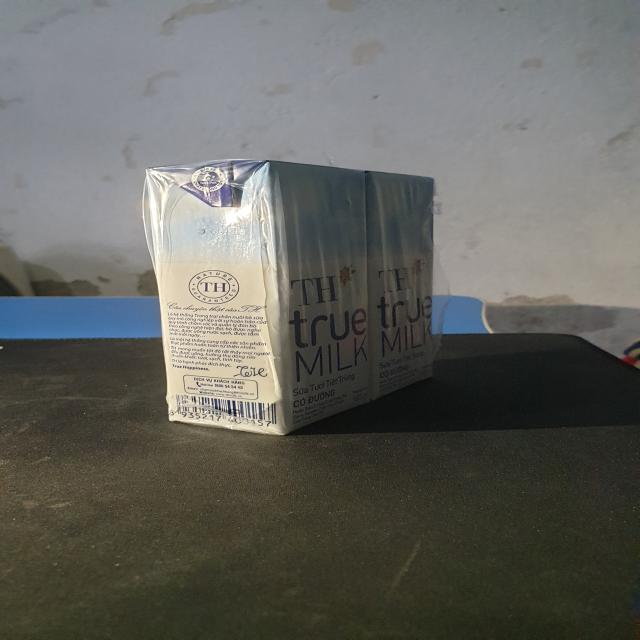TH: (146, 158, 385, 437), (370, 172, 440, 402)
